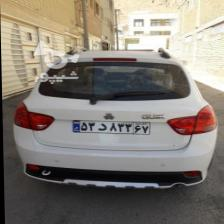plate: (70, 119, 150, 135)
